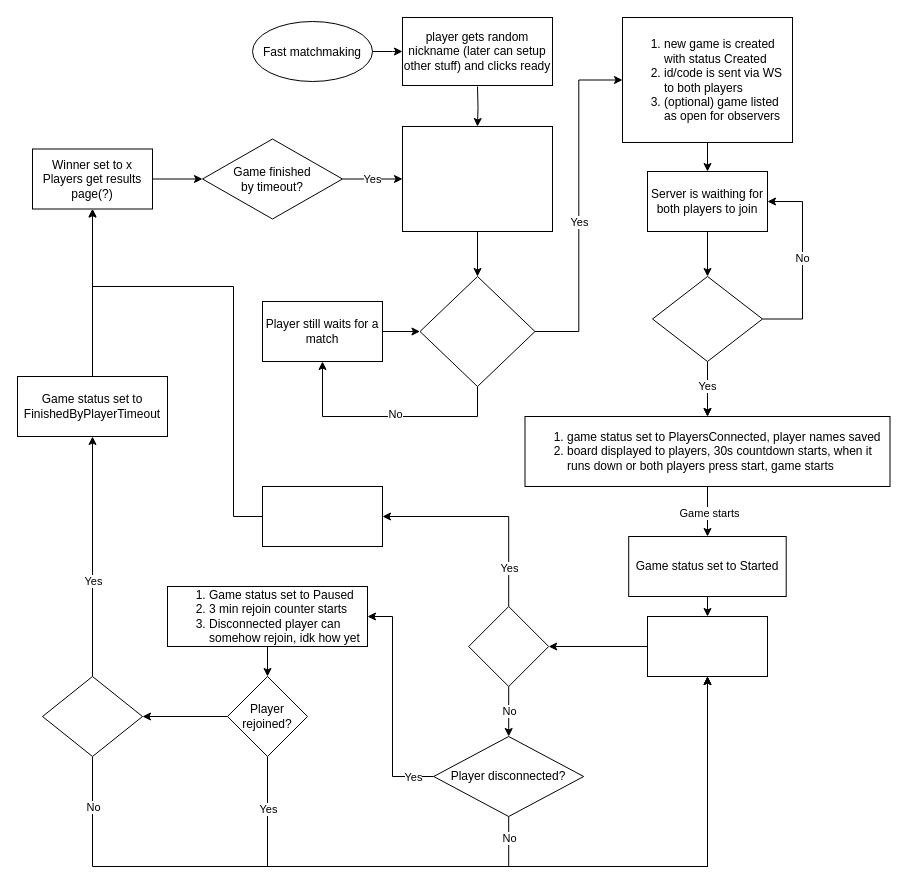
Image size: 908x892. Some labels were removed from this diagram. The shapes that lost their labels are listed below. From the top down, each one's centre as x and y in pixels, then its label:
the point at 477,179: player is added to waiting list websocket connection is open
the point at 477,331: Someone else joined?
the point at 707,319: Both players joined?
the point at 322,516: Game status set to Finished
the point at 508,646: Game finished?
the point at 707,646: Players playing, see Game logic diagram
the point at 92,716: Time runs up?
